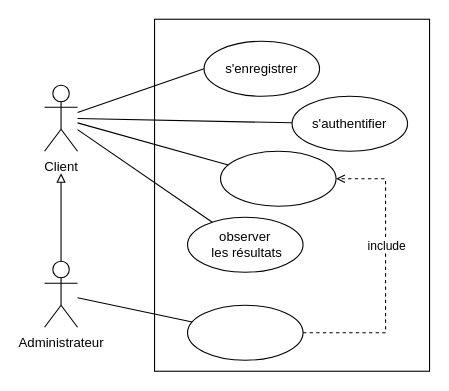
This 449x391 diagram has some shape labels left out. The shapes that lost their labels are listed below. From the top down, each one's centre as x and y in pixels, then its label:
(277,178): rechercher une vidéo
(244,332): upload une vidéo
